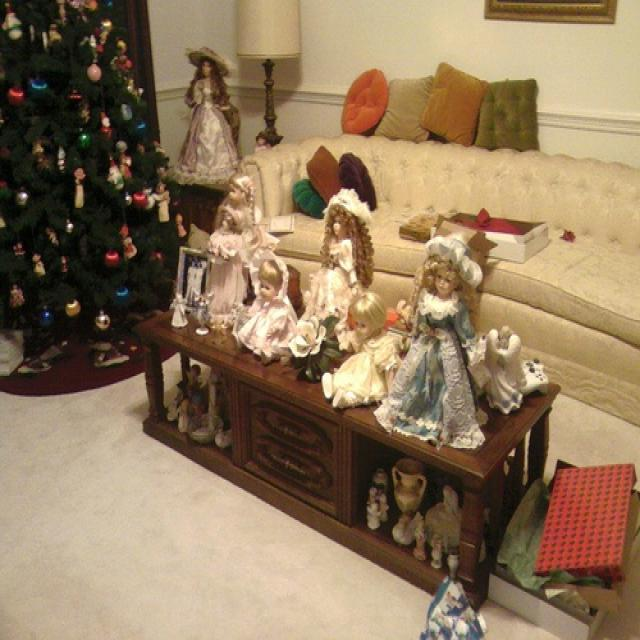sofa: (221, 134, 639, 430)
